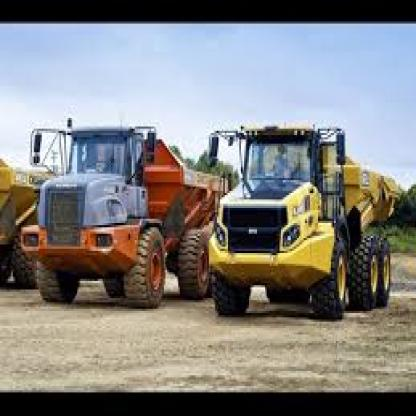dump_truck: (207, 101, 403, 330), (16, 107, 217, 326)
